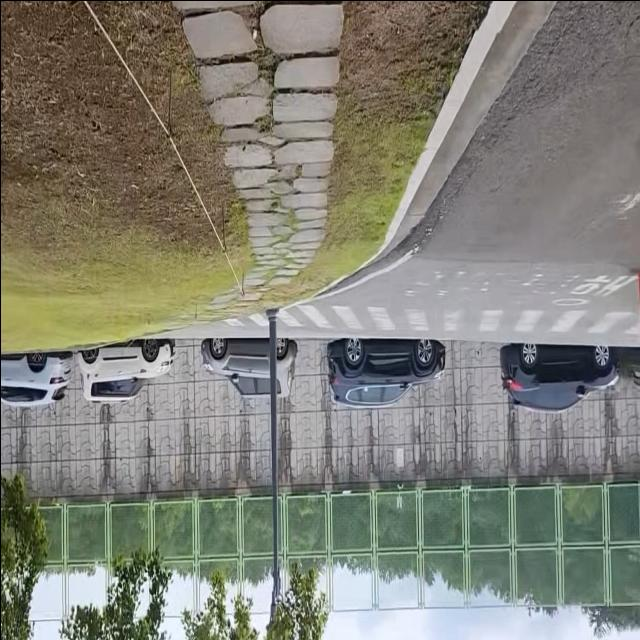obstacle: (0, 337, 185, 412), (319, 334, 458, 417), (497, 341, 633, 417), (198, 334, 305, 404), (270, 322, 279, 596)
road: (145, 0, 640, 348)
